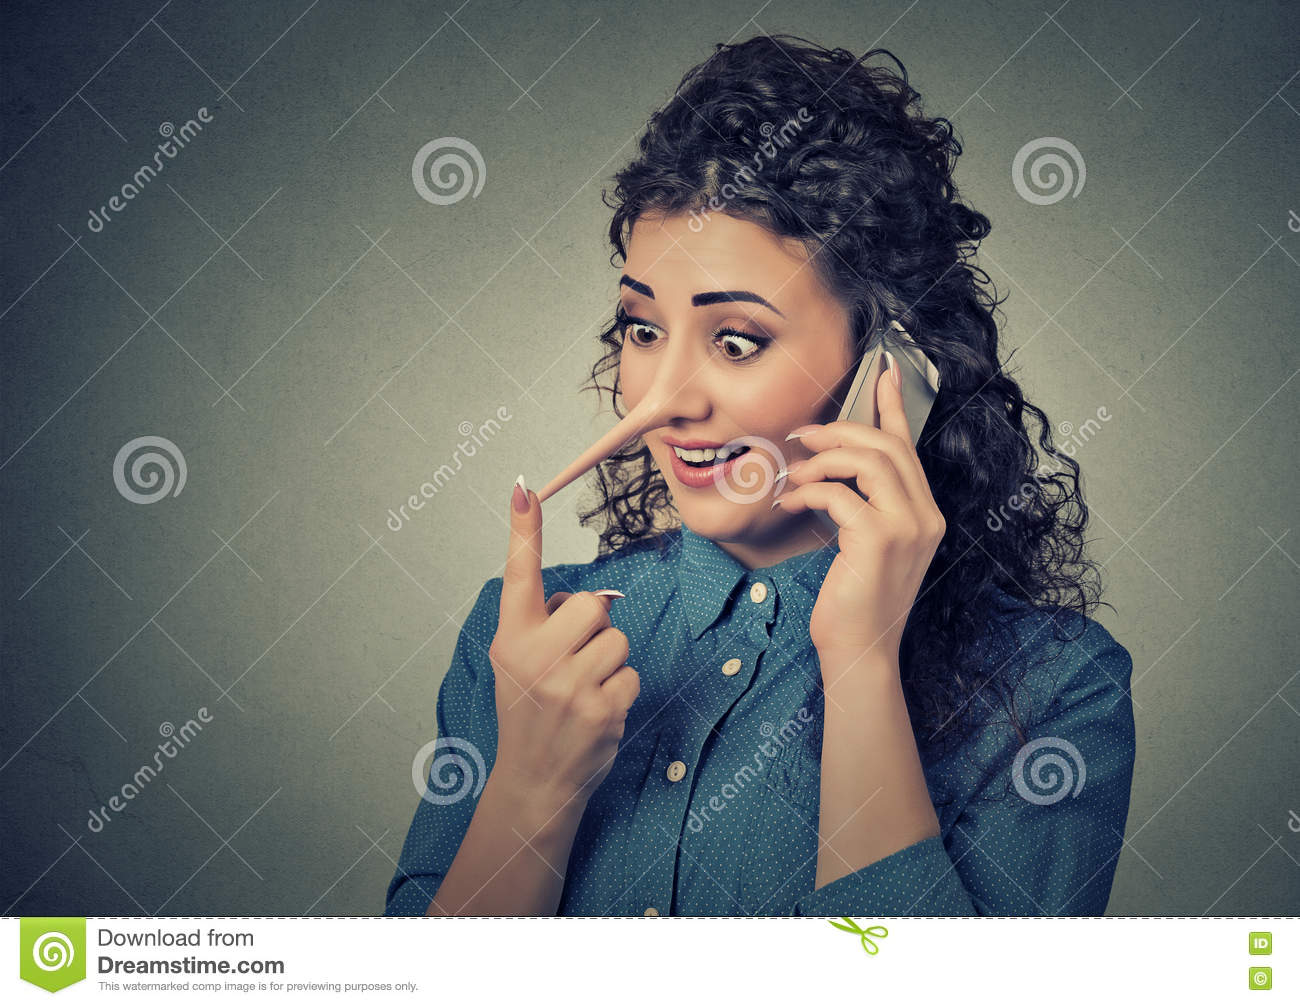phone: (831, 308, 942, 520)
talk: (612, 269, 952, 676)
